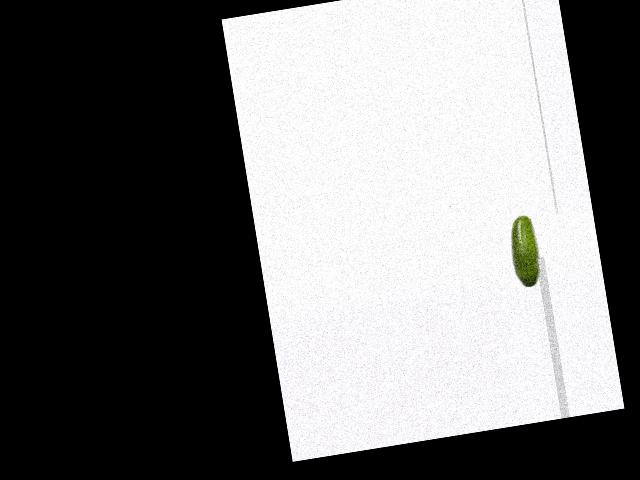cucumber: (505, 213, 544, 290)
